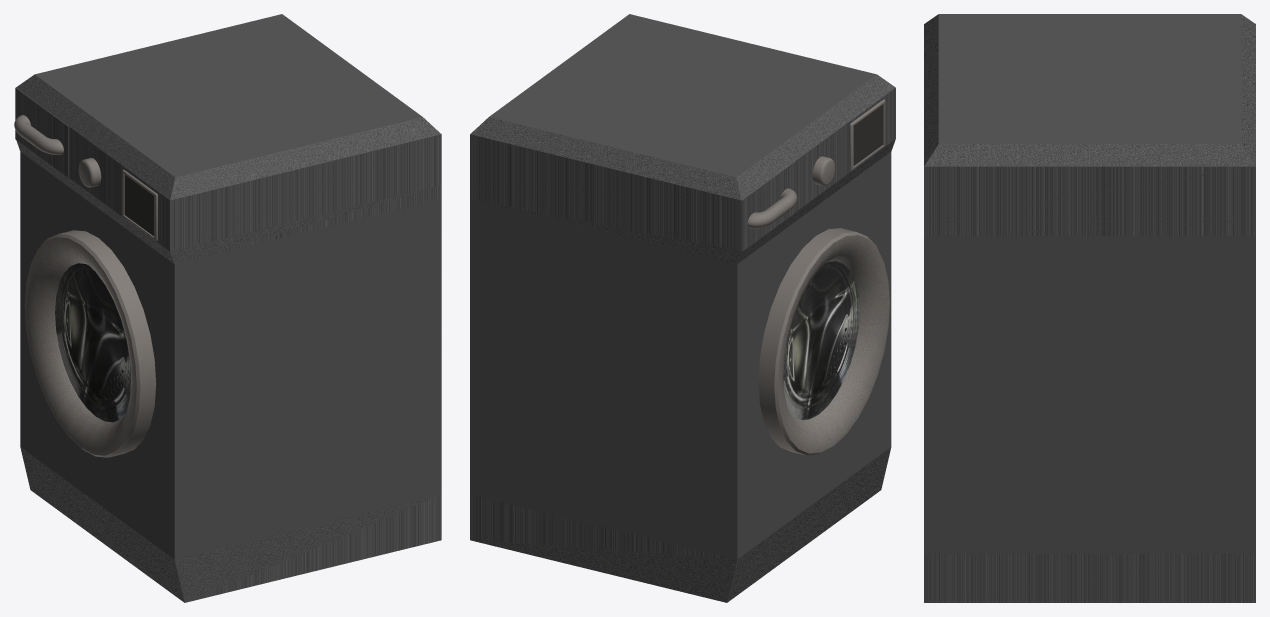
The model's file is WashingMachine.FBX.
3 views of the same model, side by side, from view 1: azimuth 30°, elevation 25°; view 2: azimuth 150°, elevation 25°; view 3: azimuth 270°, elevation 25° (orthographic). The views are drawn at different scales.
Parts seen in each view (by area): view 1: Box001, Cylinder001, ChamferBox001, Cylinder003; view 2: Box001, Cylinder001, ChamferBox001, Cylinder003; view 3: Box001.
Boxes of the visible parts, <box> form: Box001: <box>15,14,441,602</box>; Cylinder001: <box>24,230,156,457</box>; ChamferBox001: <box>122,169,157,240</box>; Cylinder003: <box>14,115,63,154</box>; Box001: <box>470,14,895,602</box>; Cylinder001: <box>758,228,889,455</box>; ChamferBox001: <box>849,99,885,170</box>; Cylinder003: <box>747,188,797,228</box>; Box001: <box>924,14,1255,602</box>.
Bounding box in the file's own units: 52.49 × 73.72 × 48.94.
4 materials, 4 textured.
